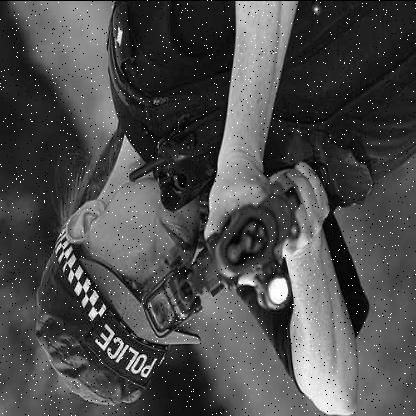rifle: (145, 166, 317, 377)
